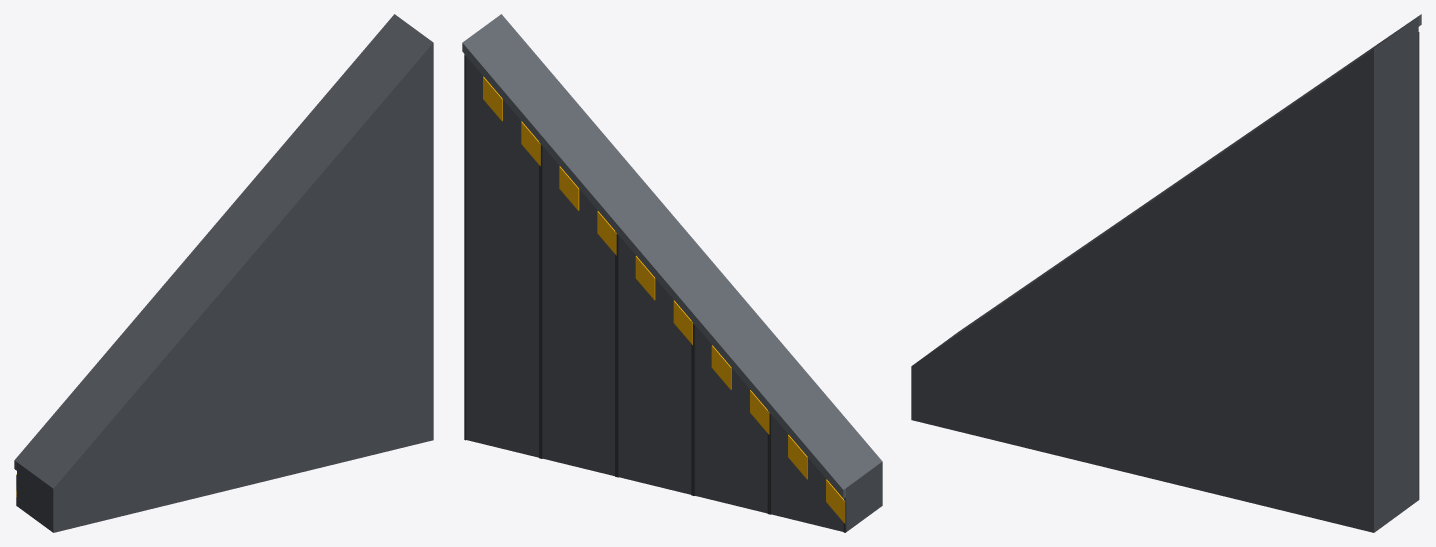
3 views of the same model, side by side, from view 1: azimuth 30°, elevation 25°; view 2: azimuth 150°, elevation 25°; view 3: azimuth 330°, elevation 25° (orthographic). The views are drawn at different scales.
Parts seen in each view (by area): view 1: b4w; view 2: b4w; view 3: b4w.
Part boxes in pixels (x1=…): b4w: x1=14, y1=14, x2=433, y2=532; b4w: x1=462, y1=14, x2=882, y2=532; b4w: x1=911, y1=14, x2=1421, y2=532.
Size of the model in its own units: 9 by 9 by 1.6.
